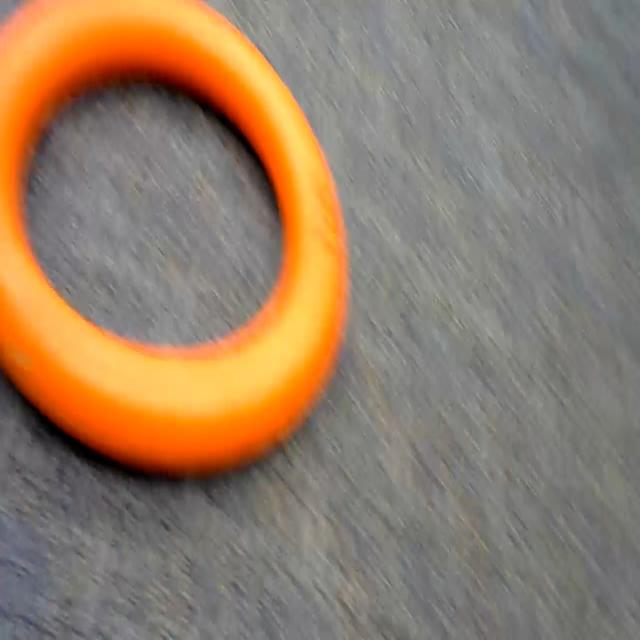note: (3, 0, 346, 468)
